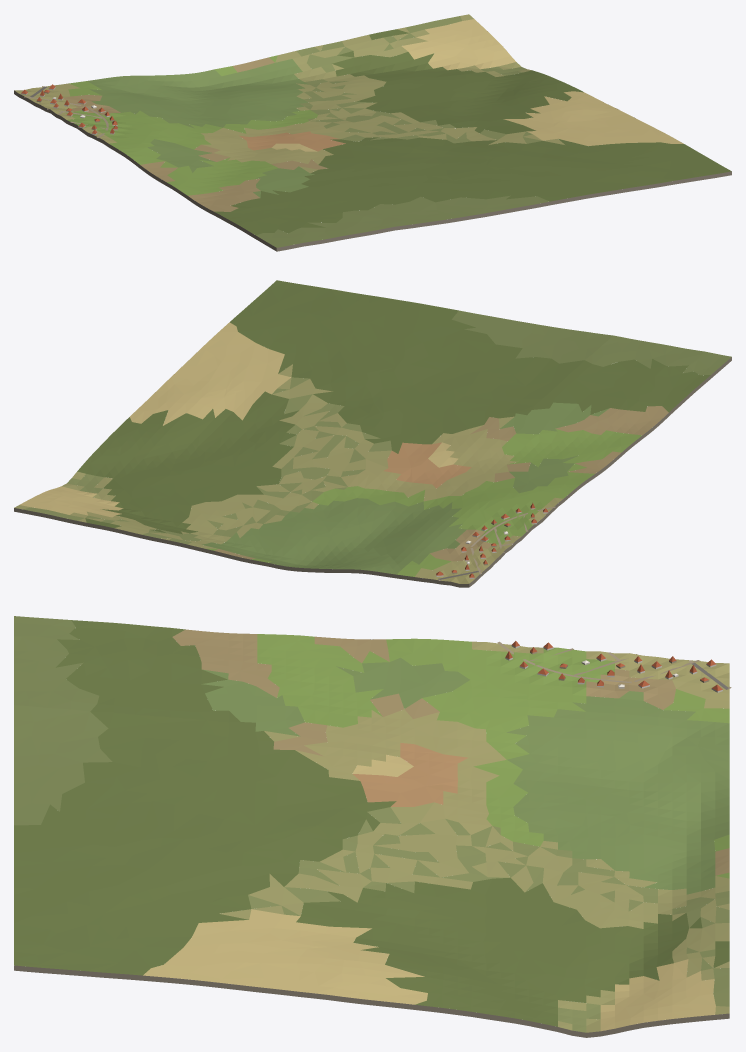
File: parca_+10_-1-uzak.glb
3 views of the same model, one above another, from view 1: azimuth 30°, elevation 25°; view 2: azimuth 150°, elevation 25°; view 3: azimuth 270°, elevation 25° (orthographic). The views are drawn at different scales.
Visible parts, largest first — view 1: parca_+10_-1_arazi_uzak, parca_+10_-1_yapilar_uzak; view 2: parca_+10_-1_arazi_uzak, parca_+10_-1_yapilar_uzak; view 3: parca_+10_-1_arazi_uzak, parca_+10_-1_yapilar_uzak, parca_+10_-1_yollar_uzak.
Part boxes in pixels (box(x1,y1,x2,y2)): parca_+10_-1_arazi_uzak: box(14, 14, 731, 251); parca_+10_-1_yapilar_uzak: box(21, 84, 117, 134); parca_+10_-1_arazi_uzak: box(14, 280, 731, 587); parca_+10_-1_yapilar_uzak: box(436, 503, 548, 578); parca_+10_-1_arazi_uzak: box(14, 616, 729, 1037); parca_+10_-1_yapilar_uzak: box(505, 641, 722, 692); parca_+10_-1_yollar_uzak: box(497, 641, 731, 689).
Size of the model in its own units: 1005 by 184 by 1003.
